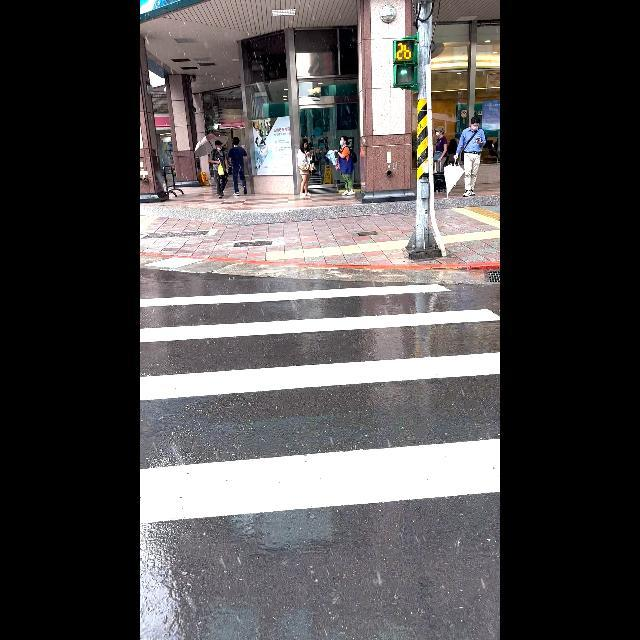sidewalk: (143, 278, 500, 525)
